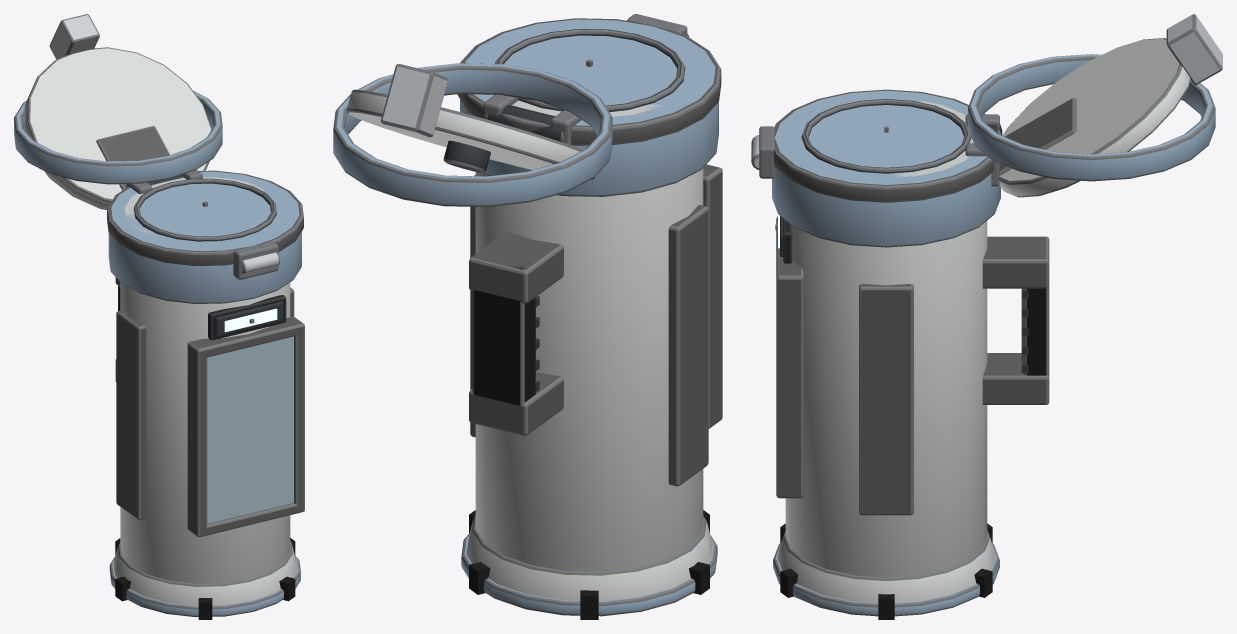
Rendered from vacuum_canister.fbx.
3 views of the same model, side by side, from view 1: azimuth 30°, elevation 25°; view 2: azimuth 150°, elevation 25°; view 3: azimuth 270°, elevation 25° (orthographic). The views are drawn at different scales.
Parts seen in each view (by area): view 1: Mesh_VacuumCanister_Body, Mesh_VacuumCanister_LidOpen, Mesh_VacuumCanister_Collar, Mesh_VacuumCanister_GlassClear, Mesh_VacuumCanister_Foot, Mesh_DeviceNozzle_IrisRing, Mesh_SprayerGauge_Plate; view 2: Mesh_VacuumCanister_Body, Mesh_VacuumCanister_LidOpen, Mesh_VacuumCanister_Collar, Mesh_VacuumCanister_Handle, Mesh_VacuumCanister_Foot, Mesh_DeviceNozzle_IrisRing; view 3: Mesh_VacuumCanister_Body, Mesh_VacuumCanister_Collar, Mesh_VacuumCanister_LidOpen, Mesh_VacuumCanister_Foot, Mesh_VacuumCanister_Handle, Mesh_DeviceNozzle_IrisRing.
Boxes of the visible parts, bbox=[...] form: Mesh_VacuumCanister_Body: bbox=[116, 282, 304, 583]; Mesh_VacuumCanister_LidOpen: bbox=[14, 14, 222, 209]; Mesh_VacuumCanister_Collar: bbox=[107, 170, 303, 303]; Mesh_VacuumCanister_GlassClear: bbox=[207, 336, 293, 523]; Mesh_VacuumCanister_Foot: bbox=[109, 538, 300, 619]; Mesh_DeviceNozzle_IrisRing: bbox=[125, 177, 276, 241]; Mesh_SprayerGauge_Plate: bbox=[208, 295, 286, 340]; Mesh_VacuumCanister_Body: bbox=[470, 164, 722, 571]; Mesh_VacuumCanister_LidOpen: bbox=[333, 63, 612, 206]; Mesh_VacuumCanister_Collar: bbox=[457, 14, 721, 196]; Mesh_VacuumCanister_Handle: bbox=[469, 231, 563, 435]; Mesh_VacuumCanister_Foot: bbox=[461, 510, 717, 619]; Mesh_DeviceNozzle_IrisRing: bbox=[495, 29, 685, 116]; Mesh_VacuumCanister_Body: bbox=[776, 216, 987, 577]; Mesh_VacuumCanister_Collar: bbox=[751, 89, 1001, 247]; Mesh_VacuumCanister_LidOpen: bbox=[968, 14, 1222, 197]; Mesh_VacuumCanister_Foot: bbox=[773, 523, 999, 619]; Mesh_VacuumCanister_Handle: bbox=[982, 236, 1049, 404]; Mesh_DeviceNozzle_IrisRing: bbox=[801, 99, 973, 177].
Size of the model in its own units: 21.6 by 52.82 by 41.14.
